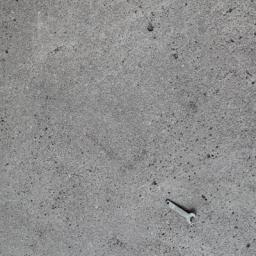FOD: (163, 197, 201, 229)
